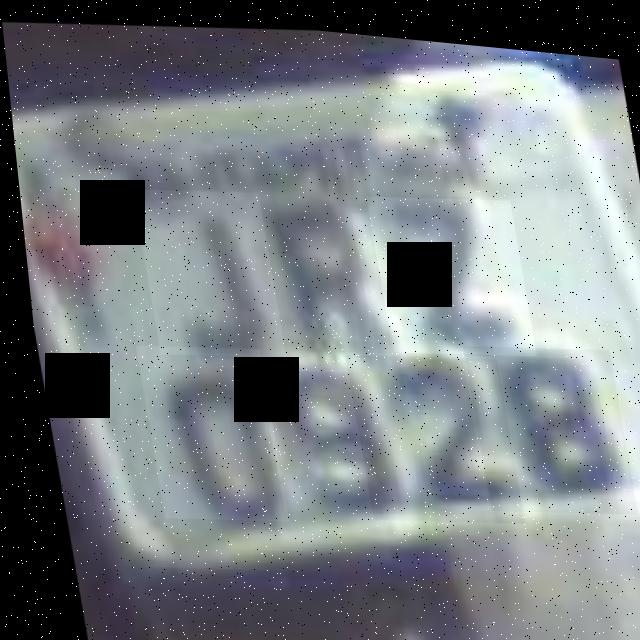0: (127, 335, 279, 525)
2: (337, 338, 515, 524)
8: (455, 327, 628, 513)
9: (237, 327, 392, 522)
J: (127, 178, 279, 361)
R: (241, 170, 400, 366)
Z: (362, 179, 530, 356)
